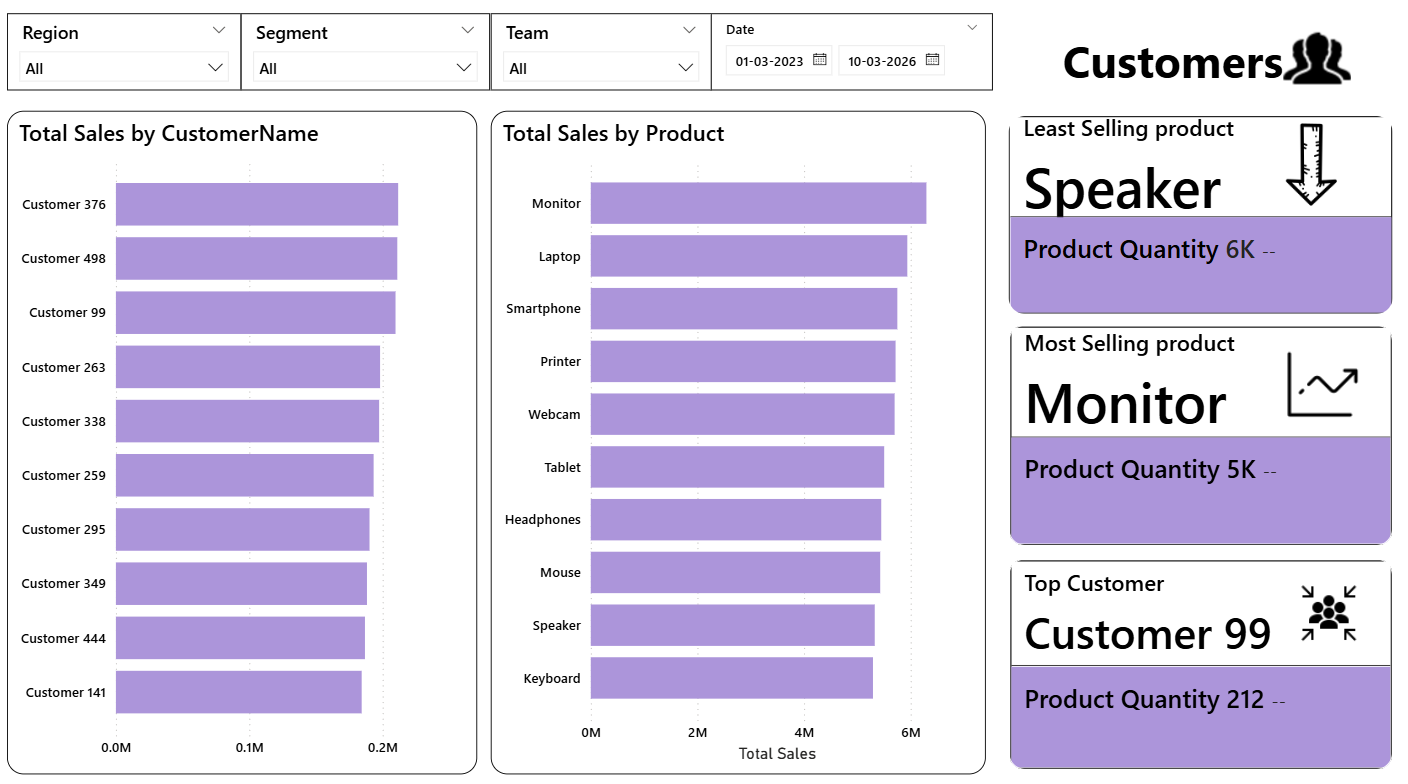

This screenshot's page, from the dashboard's own definition file:
{"tool":"powerbi","page":{"name":"Customer Summary","canvas":[1280,720],"ordinal":2},"visuals":[{"type":"slicer","fields":{"Values":["Calender.Date"]},"box":[648.2,18.8,254.2,69.9],"z":0},{"type":"slicer","fields":{"Values":["SalesData.Region"]},"box":[13.4,18.8,211.1,69.9],"z":1000},{"type":"slicer","fields":{"Values":["SalesData.Segment"]},"box":[224.6,18.8,224.6,69.9],"z":2000},{"type":"slicer","fields":{"Values":["SalesData.Team"]},"box":[449.2,18.8,199,69.9],"z":3000},{"type":"actionButton","box":[952.1,0,277,122.4],"z":4000},{"type":"clusteredBarChart","fields":{"Category":["SalesData.CustomerName"],"Y":["_All Measures.Total Sales"]},"box":[13.4,107.6,423.6,598.4],"z":5000},{"type":"clusteredBarChart","fields":{"Category":["SalesData.Product"],"Y":["_All Measures.Total Sales"]},"box":[449.2,107.6,446.5,598.4],"z":6000},{"type":"cardVisual","fields":{"Data":["_All Measures.Most Selling product"]},"box":[911.8,295.9,356.4,209.8],"z":7000},{"type":"cardVisual","fields":{"Data":["_All Measures.Least Selling product"]},"box":[911.8,107.6,356.4,188.3],"z":8000},{"type":"cardVisual","fields":{"Data":["_All Measures.Top Customer"]},"box":[911.8,505.7,356.4,200.4],"z":9000}]}

Visuals, with their boxes in screenshot pixels (x1, y1, x2, y2), scaled from the page's 1280x720 canvas onto the 1408x784 screenshot:
slicer - Calender.Date: (713,20,993,97)
slicer - SalesData.Region: (15,20,247,97)
slicer - SalesData.Segment: (247,20,494,97)
slicer - SalesData.Team: (494,20,713,97)
actionButton: (1047,0,1352,133)
clusteredBarChart - SalesData.CustomerName x _All Measures.Total Sales: (15,117,481,769)
clusteredBarChart - SalesData.Product x _All Measures.Total Sales: (494,117,985,769)
cardVisual - _All Measures.Most Selling product: (1003,322,1395,551)
cardVisual - _All Measures.Least Selling product: (1003,117,1395,322)
cardVisual - _All Measures.Top Customer: (1003,551,1395,769)
